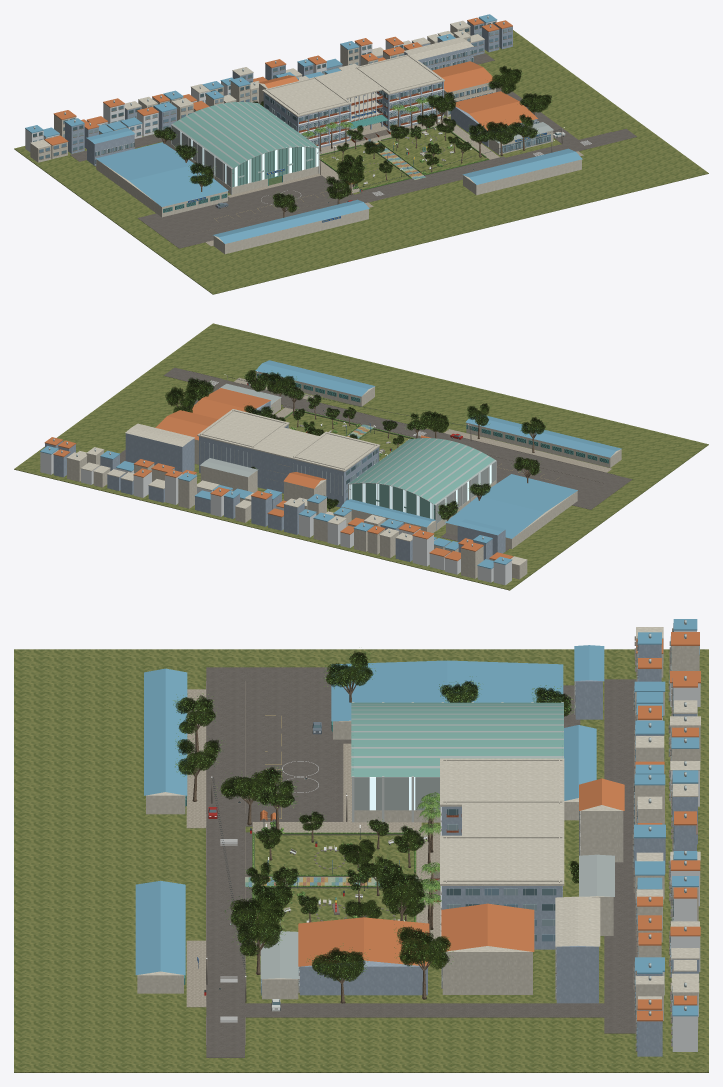
Rendered from khu-e.glb.
The picture shows the model from 3 angles, top to bottom: view 1: azimuth 30°, elevation 25°; view 2: azimuth 150°, elevation 25°; view 3: azimuth 270°, elevation 25°; orthographic projection. The views are drawn at different scales.
Parts seen in each view (by area): view 1: Đất cỏ và các sân lát, Dãy nhà phố ngoài rìa bản đồ, Xưởng cơ khí, cửa lá sách và mái xanh, Mái vòm tôn, tường chân và dải sáng, Nhà mái ngói, mặt kính kỹ thuật và khối nhà phía sau, Cánh phòng học, mái, hành lang và tam cấp, Tán lá lớp dày, Khung cửa, lam trắng, điều hòa và mảng gạch, Lá thấp, hàng rào xanh và hoa giấy, Vì kèo cong, xà dọc, đèn pha và cửa, Thân cau, cây tán rộng và cành nhỏ, Ghế đá, đèn ba nhánh, bồn và dải viền (+1 smaller); view 2: Đất cỏ và các sân lát, Dãy nhà phố ngoài rìa bản đồ, Xưởng cơ khí, cửa lá sách và mái xanh, Nhà mái ngói, mặt kính kỹ thuật và khối nhà phía sau, Cánh phòng học, mái, hành lang và tam cấp, Mái vòm tôn, tường chân và dải sáng, Tán lá lớp dày, Lá thấp, hàng rào xanh và hoa giấy, Khung cửa, lam trắng, điều hòa và mảng gạch, Vì kèo cong, xà dọc, đèn pha và cửa, Thân cau, cây tán rộng và cành nhỏ; view 3: Đất cỏ và các sân lát, Nhà mái ngói, mặt kính kỹ thuật và khối nhà phía sau, Dãy nhà phố ngoài rìa bản đồ, Xưởng cơ khí, cửa lá sách và mái xanh, Tán lá lớp dày, Cánh phòng học, mái, hành lang và tam cấp, Mái vòm tôn, tường chân và dải sáng, Lá thấp, hàng rào xanh và hoa giấy, Khung cửa, lam trắng, điều hòa và mảng gạch, Thân cau, cây tán rộng và cành nhỏ, Ghế đá, đèn ba nhánh, bồn và dải viền, Lối gạch nhiều màu và đá dạo quanh vườn.
Boxes of the visible parts, <box> form: Đất cỏ và các sân lát: <box>14,30,708,294</box>; Dãy nhà phố ngoài rìa bản đồ: <box>25,14,512,162</box>; Xưởng cơ khí, cửa lá sách và mái xanh: <box>96,138,582,254</box>; Mái vòm tôn, tường chân và dải sáng: <box>171,102,318,194</box>; Nhà mái ngói, mặt kính kỹ thuật và khối nhà phía sau: <box>86,37,565,208</box>; Cánh phòng học, mái, hành lang và tam cấp: <box>262,54,444,147</box>; Tán lá lớp dày: <box>154,65,551,212</box>; Khung cửa, lam trắng, điều hòa và mảng gạch: <box>264,54,443,145</box>; Lá thấp, hàng rào xanh và hoa giấy: <box>152,68,552,211</box>; Vì kèo cong, xà dọc, đèn pha và cửa: <box>171,103,319,194</box>; Thân cau, cây tán rộng và cành nhỏ: <box>161,86,535,217</box>; Ghế đá, đèn ba nhánh, bồn và dải viền: <box>319,120,488,191</box>; Đất cỏ và các sân lát: <box>14,323,708,590</box>; Dãy nhà phố ngoài rìa bản đồ: <box>40,437,527,585</box>; Xưởng cơ khí, cửa lá sách và mái xanh: <box>255,360,621,548</box>; Nhà mái ngói, mặt kính kỹ thuật và khối nhà phía sau: <box>125,371,505,554</box>; Cánh phòng học, mái, hành lang và tam cấp: <box>197,409,380,507</box>; Mái vòm tôn, tường chân và dải sáng: <box>349,438,495,530</box>; Tán lá lớp dày: <box>165,370,545,519</box>; Lá thấp, hàng rào xanh và hoa giấy: <box>164,368,546,520</box>; Khung cửa, lam trắng, điều hòa và mảng gạch: <box>200,409,379,500</box>; Vì kèo cong, xà dọc, đèn pha và cửa: <box>348,439,496,530</box>; Thân cau, cây tán rộng và cành nhỏ: <box>175,377,537,521</box>; Đất cỏ và các sân lát: <box>14,649,708,1072</box>; Nhà mái ngói, mặt kính kỹ thuật và khối nhà phía sau: <box>206,645,624,1011</box>; Dãy nhà phố ngoài rìa bản đồ: <box>632,619,700,1056</box>; Xưởng cơ khí, cửa lá sách và mái xanh: <box>135,660,596,993</box>; Tán lá lớp dày: <box>175,651,578,981</box>; Cánh phòng học, mái, hành lang và tam cấp: <box>430,758,564,949</box>; Mái vòm tôn, tường chân và dải sáng: <box>351,702,563,822</box>; Lá thấp, hàng rào xanh và hoa giấy: <box>173,649,578,979</box>; Khung cửa, lam trắng, điều hòa và mảng gạch: <box>440,758,562,941</box>; Thân cau, cây tán rộng và cành nhỏ: <box>187,680,544,1003</box>; Ghế đá, đèn ba nhánh, bồn và dải viền: <box>204,810,427,995</box>; Lối gạch nhiều màu và đá dạo quanh vườn: <box>244,848,418,921</box>.
Bounding box in the file's own units: 210 × 16.61 × 146.
Materials: 46 (16 with a texture image).
